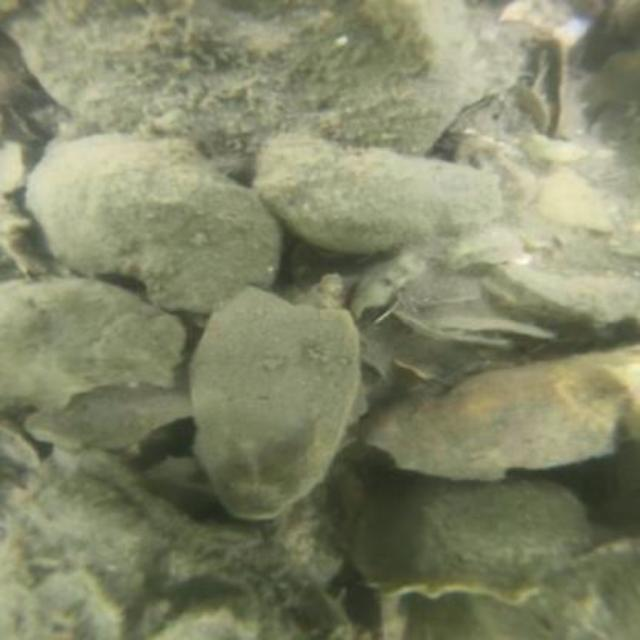Oyster-Closed: (0, 0, 480, 172), (24, 134, 288, 314), (187, 287, 362, 529), (345, 466, 595, 603), (251, 131, 510, 252), (0, 274, 180, 413), (360, 0, 449, 74), (530, 168, 612, 240)
Oyster-Open: (352, 338, 638, 552), (18, 368, 207, 483), (387, 303, 559, 353), (522, 38, 576, 138)
